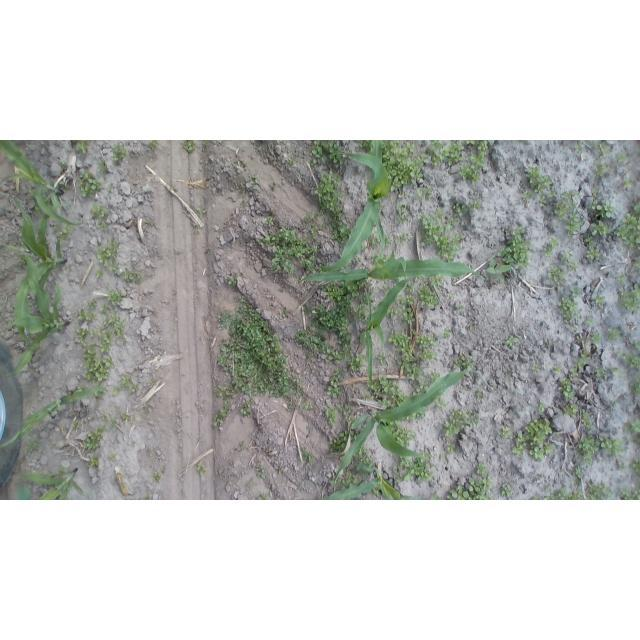Maize: (334, 371, 476, 494), (317, 141, 393, 272), (11, 197, 69, 350), (4, 245, 69, 378), (299, 243, 481, 281), (1, 140, 80, 226), (0, 387, 106, 448), (360, 276, 412, 387), (327, 459, 421, 500), (17, 468, 90, 499)
Weeds: (214, 297, 307, 399), (262, 228, 316, 274), (381, 140, 428, 192), (303, 302, 351, 351), (420, 215, 462, 260), (91, 304, 127, 352), (389, 327, 422, 379), (517, 419, 556, 461), (499, 228, 531, 269), (462, 141, 494, 180), (615, 201, 640, 250), (315, 171, 342, 213), (447, 477, 494, 499), (310, 141, 345, 168), (444, 409, 480, 435), (84, 350, 113, 382), (399, 457, 434, 483), (294, 329, 326, 356), (558, 296, 579, 332), (526, 167, 553, 194), (111, 375, 140, 398), (617, 283, 639, 313), (368, 375, 398, 395), (392, 422, 416, 446), (79, 173, 102, 198), (572, 350, 590, 381), (487, 258, 510, 282), (418, 285, 440, 310), (214, 401, 235, 427), (331, 216, 351, 243), (529, 487, 570, 500), (97, 239, 120, 262), (616, 349, 640, 371), (599, 437, 625, 457), (84, 428, 105, 451), (592, 199, 616, 219), (430, 141, 447, 168), (325, 375, 344, 398), (567, 212, 584, 237), (587, 482, 613, 498), (579, 436, 599, 456), (448, 142, 464, 167), (560, 378, 575, 402), (592, 221, 613, 238), (547, 267, 565, 286), (90, 202, 108, 221), (121, 267, 139, 285), (555, 200, 572, 219), (400, 304, 416, 324), (300, 447, 316, 467), (324, 347, 345, 362), (322, 283, 343, 298), (370, 234, 394, 247), (340, 470, 358, 487), (351, 303, 367, 322), (112, 143, 127, 163), (350, 353, 365, 371), (397, 206, 410, 225), (107, 291, 126, 304), (345, 282, 360, 298), (309, 224, 325, 239), (396, 293, 414, 306), (544, 237, 557, 255), (325, 407, 338, 425), (455, 356, 474, 368), (417, 334, 436, 346), (413, 378, 428, 393), (391, 390, 407, 404), (558, 251, 574, 265), (107, 261, 120, 278), (582, 409, 594, 427), (59, 227, 73, 242), (621, 489, 640, 500), (77, 309, 96, 320), (453, 204, 469, 217), (563, 189, 580, 201), (329, 438, 346, 450), (302, 213, 316, 227), (434, 397, 448, 411), (588, 332, 602, 346), (226, 273, 239, 288), (249, 173, 262, 188), (608, 327, 623, 340), (417, 188, 433, 200), (421, 349, 438, 360), (241, 400, 252, 417), (573, 141, 587, 154), (431, 276, 445, 289), (75, 141, 89, 154), (613, 151, 628, 163), (573, 462, 584, 478), (628, 418, 639, 434), (595, 293, 606, 309), (196, 460, 206, 477), (255, 462, 265, 479), (564, 404, 578, 416), (587, 247, 601, 259), (234, 441, 249, 452), (362, 446, 371, 464), (340, 430, 356, 440), (598, 144, 610, 157), (378, 398, 390, 411), (570, 286, 582, 299), (597, 162, 608, 176), (621, 176, 632, 190), (505, 335, 520, 345), (500, 484, 512, 496), (183, 140, 195, 152), (630, 379, 639, 395), (377, 352, 388, 365), (388, 307, 399, 320), (596, 366, 606, 380), (98, 159, 108, 173), (287, 156, 298, 168), (613, 459, 624, 471), (470, 199, 481, 211), (478, 463, 488, 476), (537, 401, 547, 414), (568, 491, 584, 499), (338, 404, 352, 413), (538, 195, 547, 209), (523, 190, 534, 201), (195, 202, 205, 214), (631, 460, 639, 475), (77, 329, 87, 341), (417, 406, 427, 418), (334, 367, 346, 377), (428, 372, 441, 381), (90, 457, 100, 468), (585, 316, 596, 326), (445, 291, 455, 302), (584, 236, 594, 247), (109, 418, 118, 430), (305, 425, 313, 438), (147, 141, 157, 151), (630, 339, 640, 349), (442, 329, 452, 339), (86, 299, 96, 309), (70, 420, 80, 430), (631, 436, 640, 447), (29, 442, 40, 451), (501, 428, 510, 439), (107, 451, 116, 462), (305, 403, 316, 412), (369, 253, 378, 263), (404, 284, 414, 293), (365, 278, 375, 287), (265, 215, 274, 225), (397, 234, 407, 243), (27, 190, 37, 199), (98, 222, 107, 232), (16, 255, 25, 265), (119, 413, 129, 422), (531, 363, 541, 372), (552, 365, 561, 375), (399, 192, 410, 200), (446, 443, 455, 452), (345, 417, 354, 426), (201, 140, 211, 148), (259, 492, 269, 500), (456, 303, 464, 313), (615, 273, 625, 281), (77, 385, 88, 392), (153, 471, 160, 482), (505, 371, 516, 378), (106, 183, 115, 191), (95, 270, 103, 279), (98, 415, 106, 424), (408, 413, 417, 421), (609, 365, 617, 374), (634, 256, 640, 268), (440, 453, 446, 464), (435, 209, 446, 215), (148, 378, 156, 386), (276, 468, 284, 476), (206, 245, 212, 255), (287, 402, 293, 412), (468, 320, 474, 330), (544, 484, 552, 491), (570, 263, 578, 270), (475, 391, 483, 398), (54, 472, 63, 478), (148, 449, 153, 459), (361, 245, 368, 252), (383, 284, 390, 291), (365, 395, 372, 402), (546, 341, 553, 348), (382, 253, 388, 261), (130, 440, 136, 448), (591, 187, 597, 194), (312, 366, 316, 374), (512, 388, 517, 394), (356, 258, 361, 263), (138, 498, 150, 500), (144, 220, 149, 224)
